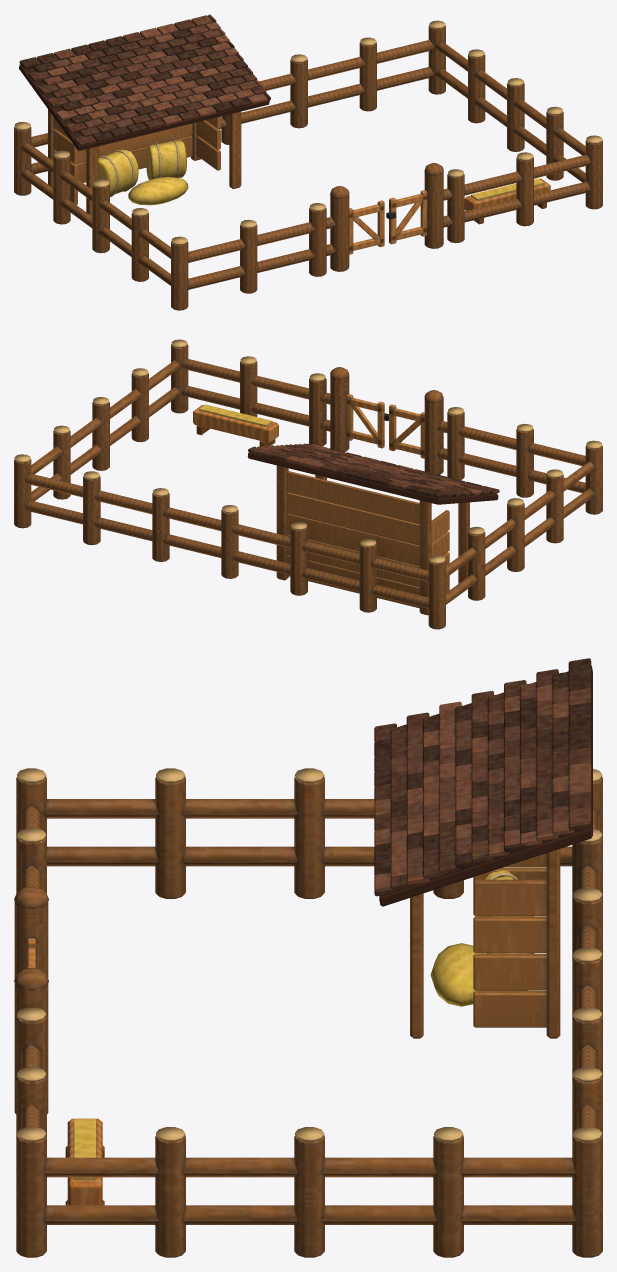
Rendered from yak_pasture.glb.
The picture shows the model from 3 angles, top to bottom: view 1: azimuth 30°, elevation 25°; view 2: azimuth 150°, elevation 25°; view 3: azimuth 270°, elevation 25°; orthographic projection. The views are drawn at different scales.
Parts seen in each view (by area): view 1: yak_pasture, gate1, gate0; view 2: yak_pasture, gate1, gate0; view 3: yak_pasture.
Boxes of the visible parts, x1,y1,x2,y2 form: yak_pasture: [14, 14, 602, 310]; gate1: [386, 190, 427, 244]; gate0: [349, 200, 384, 254]; yak_pasture: [14, 339, 602, 629]; gate1: [346, 394, 388, 448]; gate0: [389, 404, 424, 458]; yak_pasture: [14, 658, 602, 1257].
Size of the model in its own units: 3 by 0.9342 by 2.01.
Materials: 1 (1 with a texture image).
